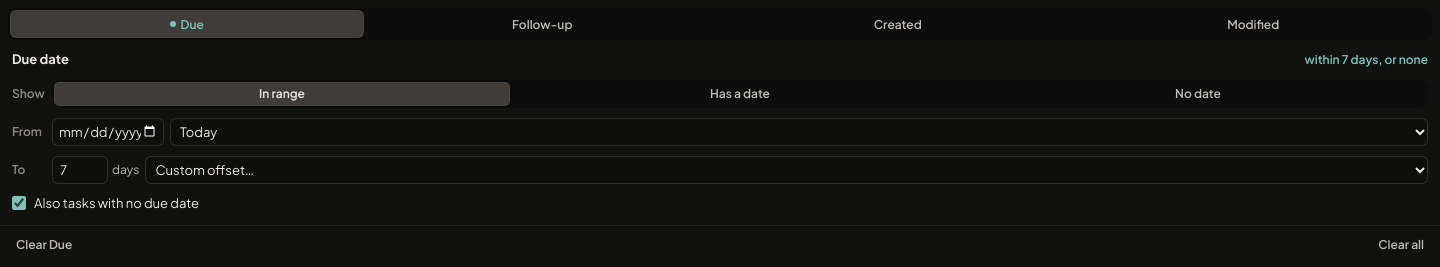
Test: DateFilterPanel › a range hidden by Has a date comes back with In range
The width and height of the screenshot is (1440, 267).
Click the radio button labelled "Has a date". click: [740, 94]
box: [512,82,968,106]
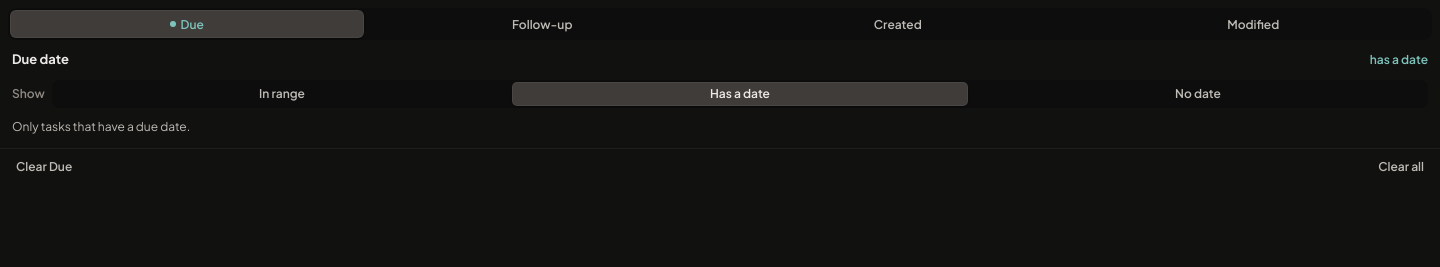
Click the radio button labelled "In range". click: [282, 94]
box: [54,82,510,106]
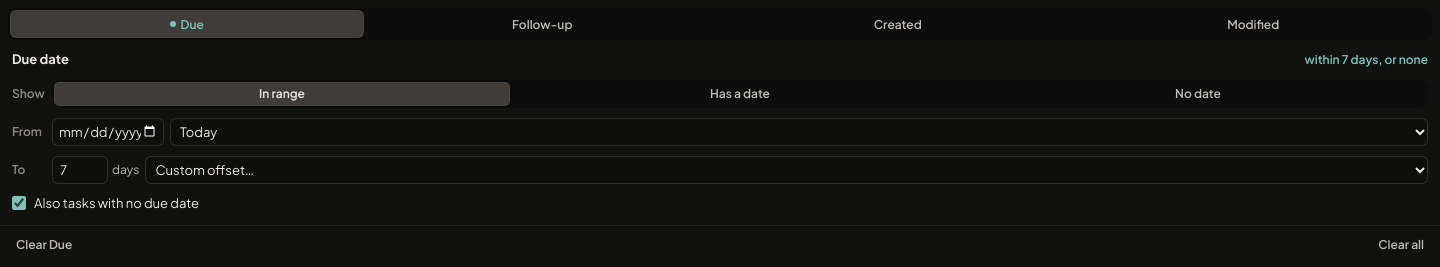
expect the checkbox labelled "Also tasks with no due date" is checked: met, box [12,196,26,210]
